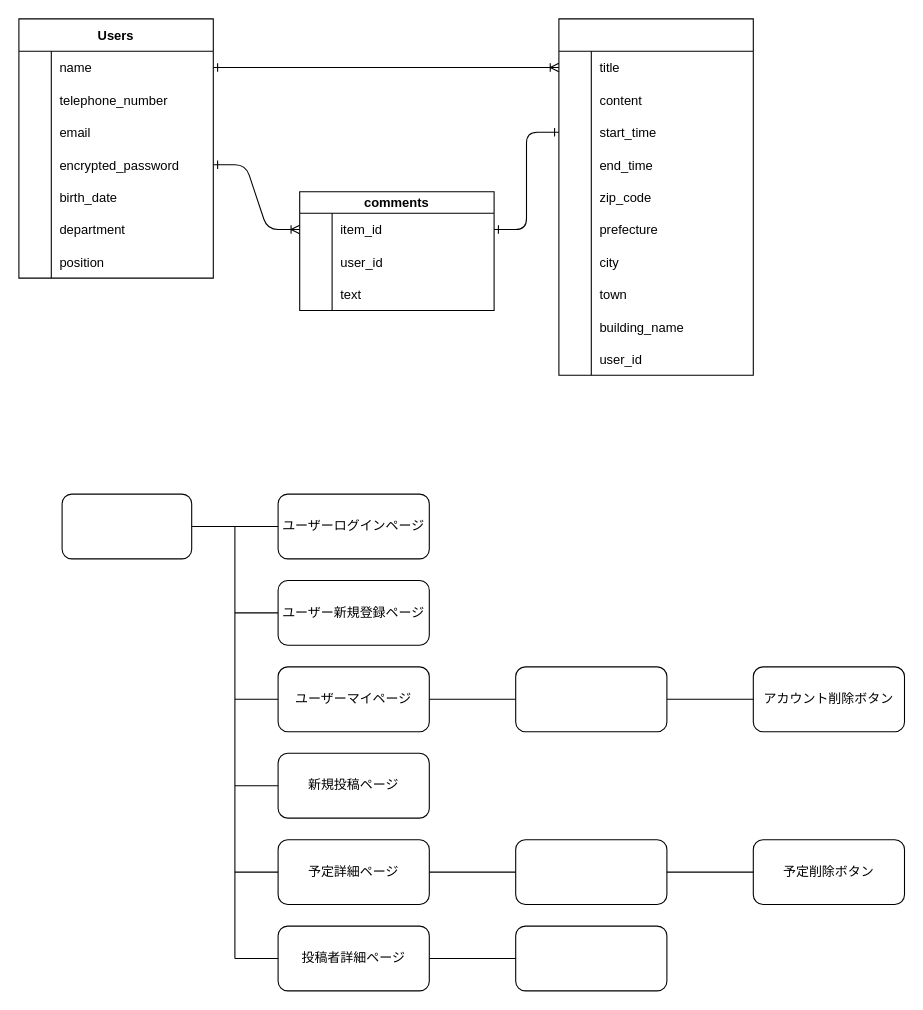
Image size: 923x1010. Some labels were removed from this diagram. The box of each missing label's shape, as (x1, y1, x2, y2) in pixels:
schedules: (558, 18, 753, 375)
トップページ （一覧ページ）: (61, 493, 192, 559)
メールクライアント 起動ボタン: (515, 925, 667, 991)
ユーザー情報変更: (515, 666, 667, 732)
予定編集ページ: (515, 839, 667, 905)
